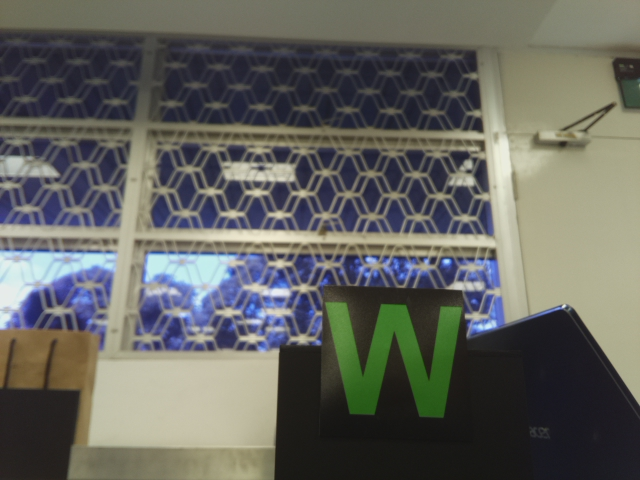w: (322, 294, 461, 426)
